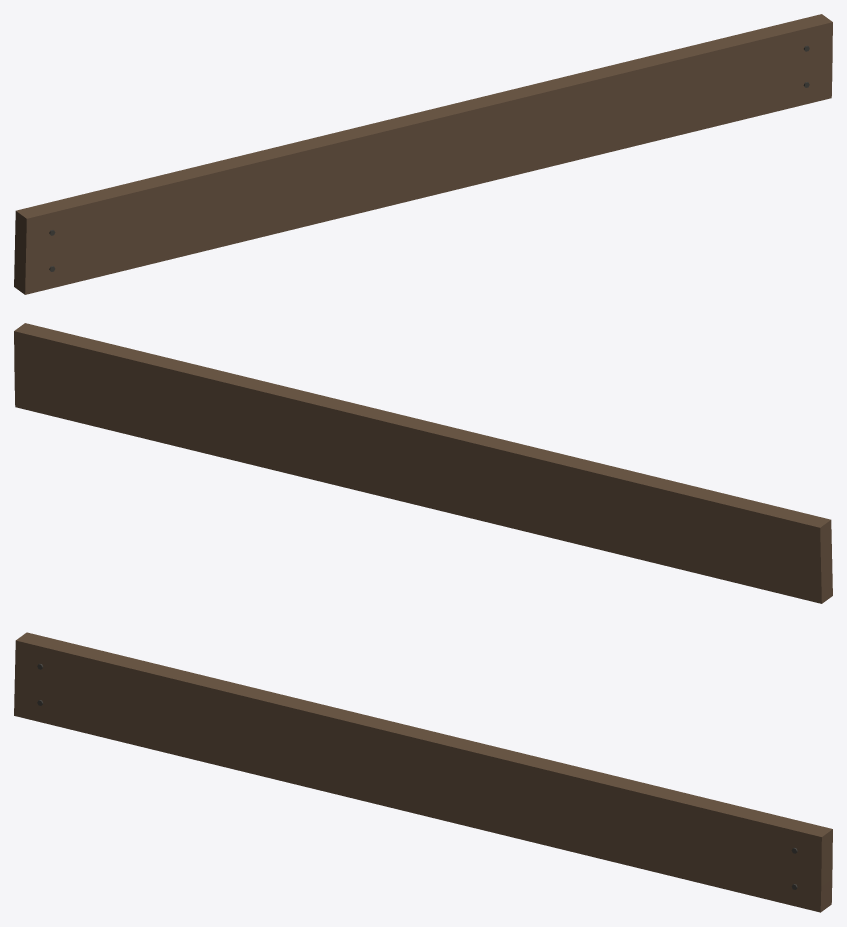
The model's file is board_c.gltf.
3 views of the same model, one above another, from view 1: azimuth 30°, elevation 25°; view 2: azimuth 150°, elevation 25°; view 3: azimuth 330°, elevation 25° (orthographic).
Parts seen in each view (by area): view 1: board_c; view 2: board_c; view 3: board_c.
Boxes of the visible parts, x1,y1,x2,y2 form: board_c: (14,14,832,294); board_c: (14,323,832,603); board_c: (14,632,832,912).
Size of the model in its own units: 2.1 by 0.188 by 0.054.
